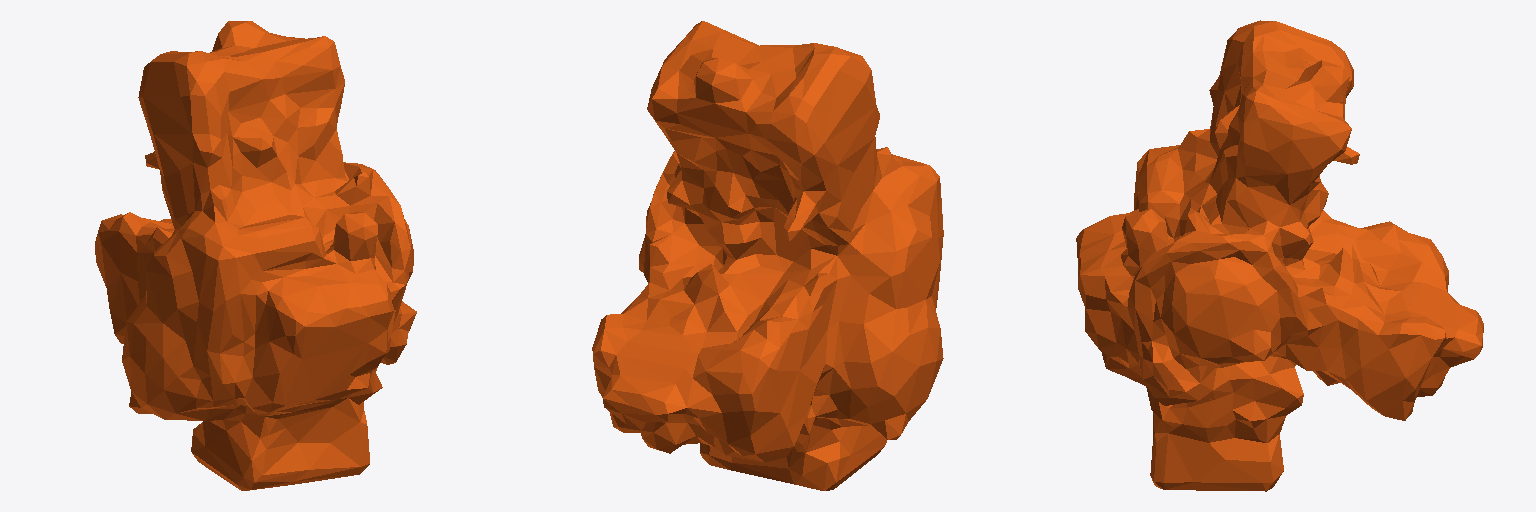
robot.urdf — engine:
<?xml version="1.0" ?>
<robot
  name="engine">
  <link
    name="engine_link">
    <inertial>
      <origin
        xyz="0 0 0"
        rpy="0 0 0" />
      <mass
        value="10.0" />
      <inertia
        ixx="1"
        ixy="0"
        ixz="0"
        iyy="1"
        iyz="0"
        izz="1" />
    </inertial>
    <visual>
      <origin
        xyz="0 0 0"
        rpy="0 0 0" />
      <geometry>
        <mesh
          filename="engine/Engine_subs2_scale.stl" />
      </geometry>
      <material
        name="">
        <color
          rgba="0.890196078431373 0.411764705882353 0.125490196078431 1" />
      </material>
    </visual>
    <collision>
      <origin
        xyz="0 0 0"
        rpy="0 0 0" />
      <geometry>
        <mesh
          filename="engine/Engine_subs_scale.stl" />
      </geometry>
    </collision>
  </link>
</robot>

--- What the picture shows (computed from the rendered views, not written in the file) ---
The picture shows the robot from 3 angles, left to right: view 1: azimuth 30°, elevation 25°; view 2: azimuth 150°, elevation 25°; view 3: azimuth 270°, elevation 25°; orthographic projection.
Robot: engine — 1 links, 0 joints (none); root link engine_link; default pose: all joints at 0.
Visible links, largest first — view 1: engine_link; view 2: engine_link; view 3: engine_link.
Boxes of the visible links, left/top/right/bottom form: engine_link: left=95, top=21, right=416, bottom=490; engine_link: left=592, top=21, right=943, bottom=490; engine_link: left=1076, top=20, right=1483, bottom=491.
Bounding box of the posed robot: 0.3359 × 0.4547 × 0.5107 m (x, y, z).
1 mesh visuals loaded from 1 distinct referenced files (1 binary STL).